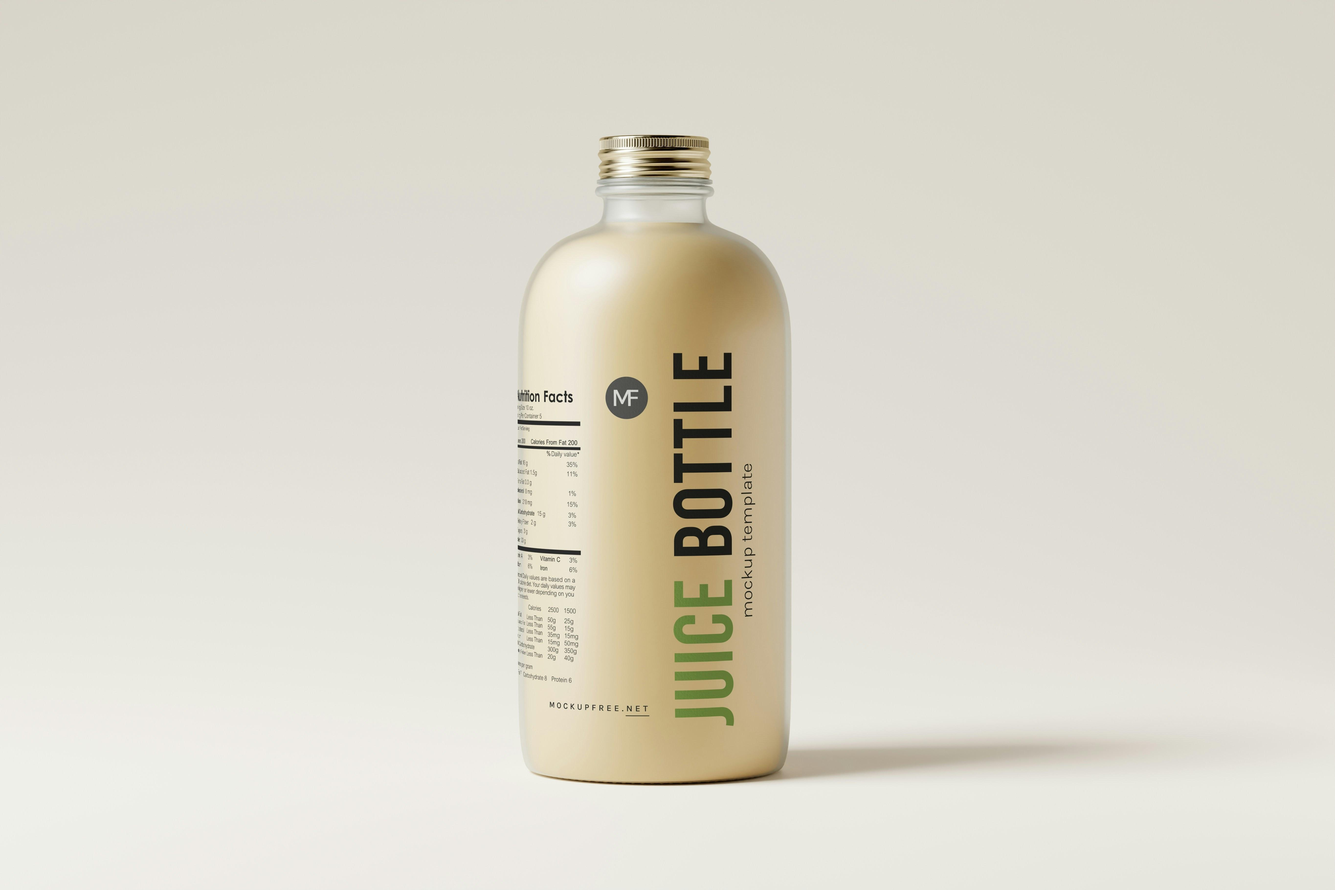Bottle-Detection: (416, 88, 883, 848)
